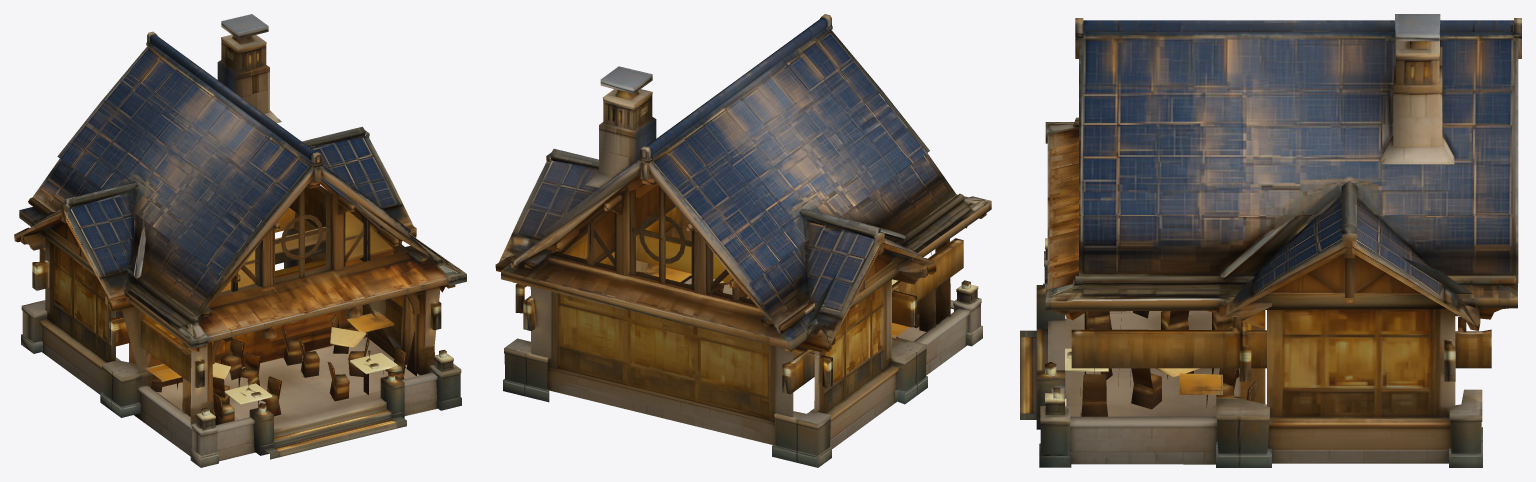
Rendered from tavern.glb.
3 views of the same model, side by side, from view 1: azimuth 30°, elevation 25°; view 2: azimuth 150°, elevation 25°; view 3: azimuth 270°, elevation 25° (orthographic). The views are drawn at different scales.
Parts seen in each view (by area): view 1: tripo_488465d6_2745_4588_a70b_053ee39314ae; view 2: tripo_488465d6_2745_4588_a70b_053ee39314ae; view 3: tripo_488465d6_2745_4588_a70b_053ee39314ae.
Boxes of the visible parts, bbox=[...] form: tripo_488465d6_2745_4588_a70b_053ee39314ae: bbox=[14, 14, 466, 467]; tripo_488465d6_2745_4588_a70b_053ee39314ae: bbox=[495, 14, 991, 467]; tripo_488465d6_2745_4588_a70b_053ee39314ae: bbox=[1020, 14, 1521, 467].
Size of the model in its own units: 0.9302 by 0.8804 by 0.9995.
Materials: 1 (1 with a texture image).
